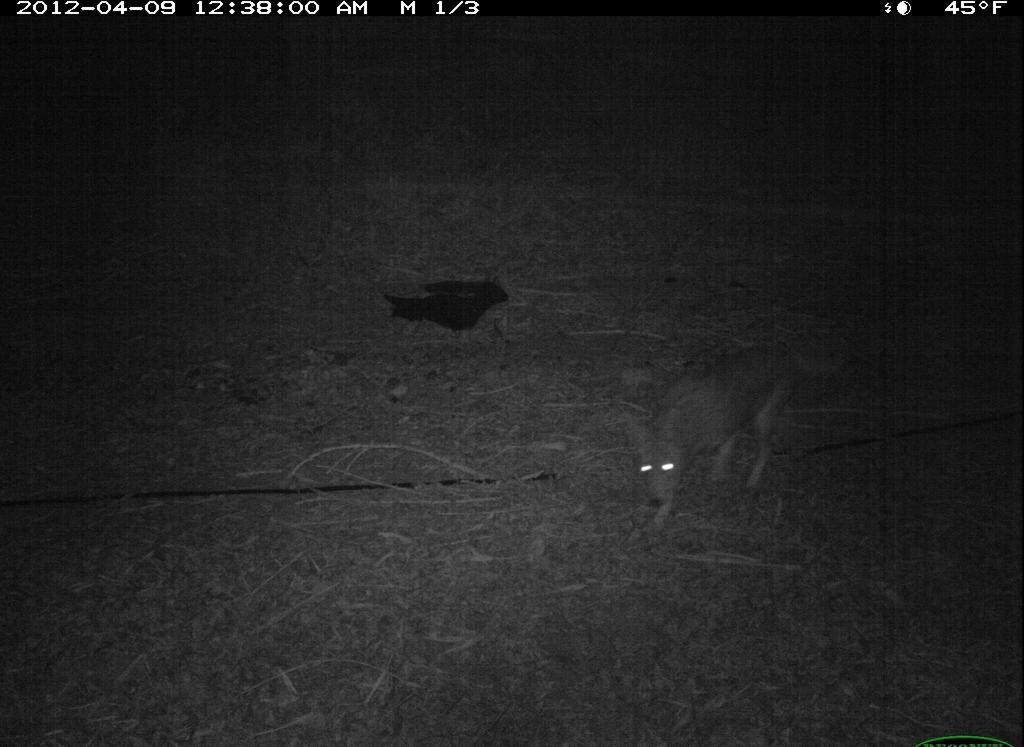coyote: (597, 327, 862, 532)
